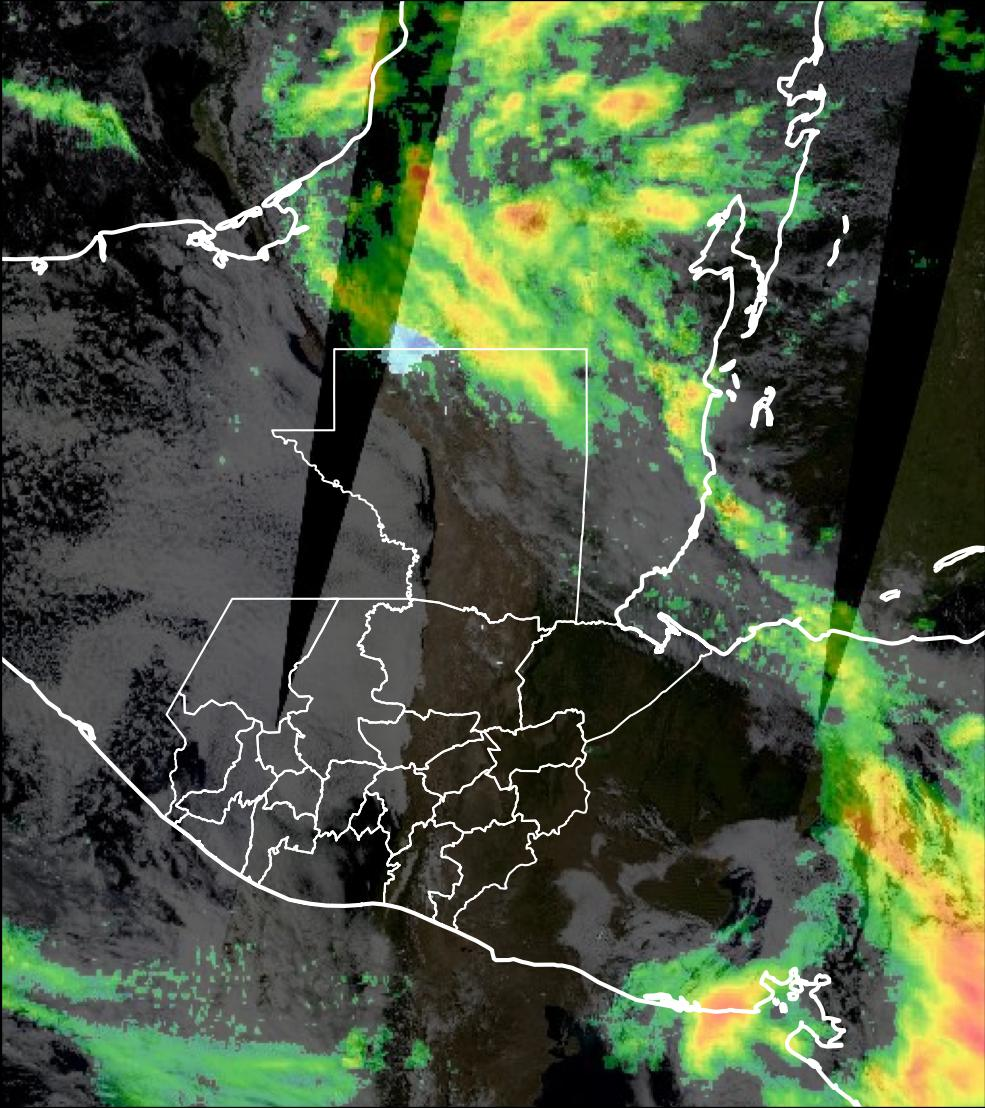precipitacion: (923, 854, 983, 1070), (487, 193, 562, 258)
